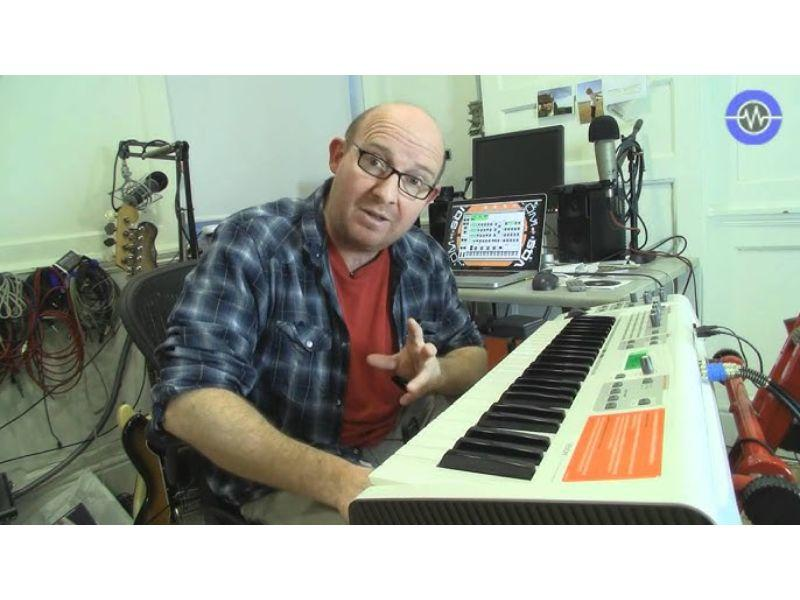synthesizer: (435, 305, 740, 507)
